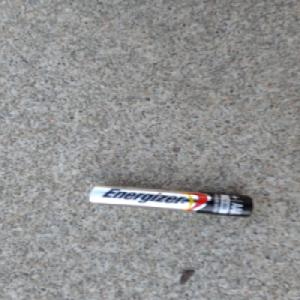Battery: (84, 183, 252, 219)
